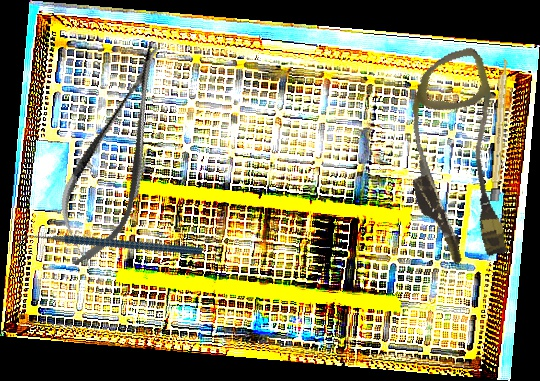Cannula: (382, 45, 533, 271)
Chopper: (14, 177, 204, 318)
Micro Scissor: (40, 34, 192, 278)
Scalpel Handle: (490, 57, 509, 202)
